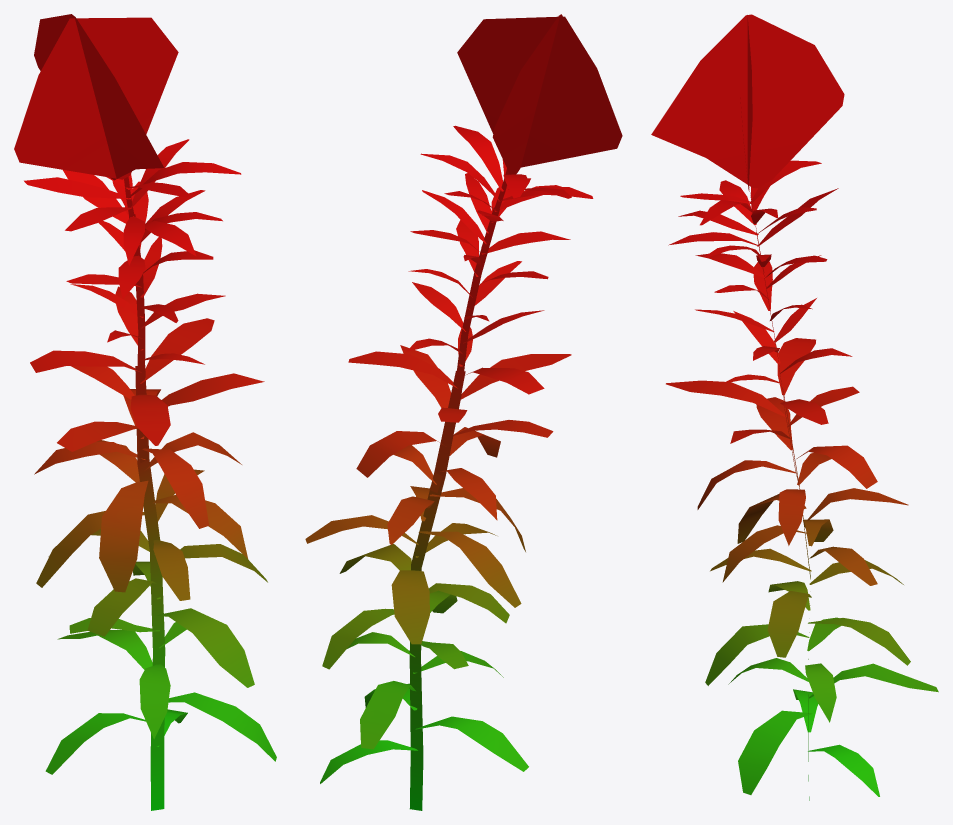
File: Goldenrods_LOD5_Var2.fbx
3 views of the same model, side by side, from view 1: azimuth 30°, elevation 25°; view 2: azimuth 150°, elevation 25°; view 3: azimuth 270°, elevation 25° (orthographic). The views are drawn at different scales.
Parts seen in each view (by area): view 1: _h3vp_Var2_LOD5; view 2: _h3vp_Var2_LOD5; view 3: _h3vp_Var2_LOD5.
Part boxes in pixels (x1,y1,x2,y2): _h3vp_Var2_LOD5: (14, 14, 276, 810); _h3vp_Var2_LOD5: (305, 14, 622, 810); _h3vp_Var2_LOD5: (651, 14, 938, 800).
Bounding box in the file's own units: 48.62 × 143 × 50.11.
